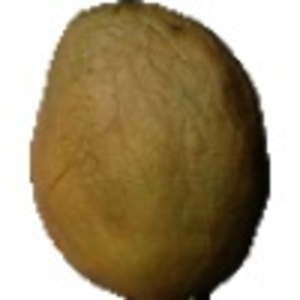mamão: (21, 1, 275, 296)
